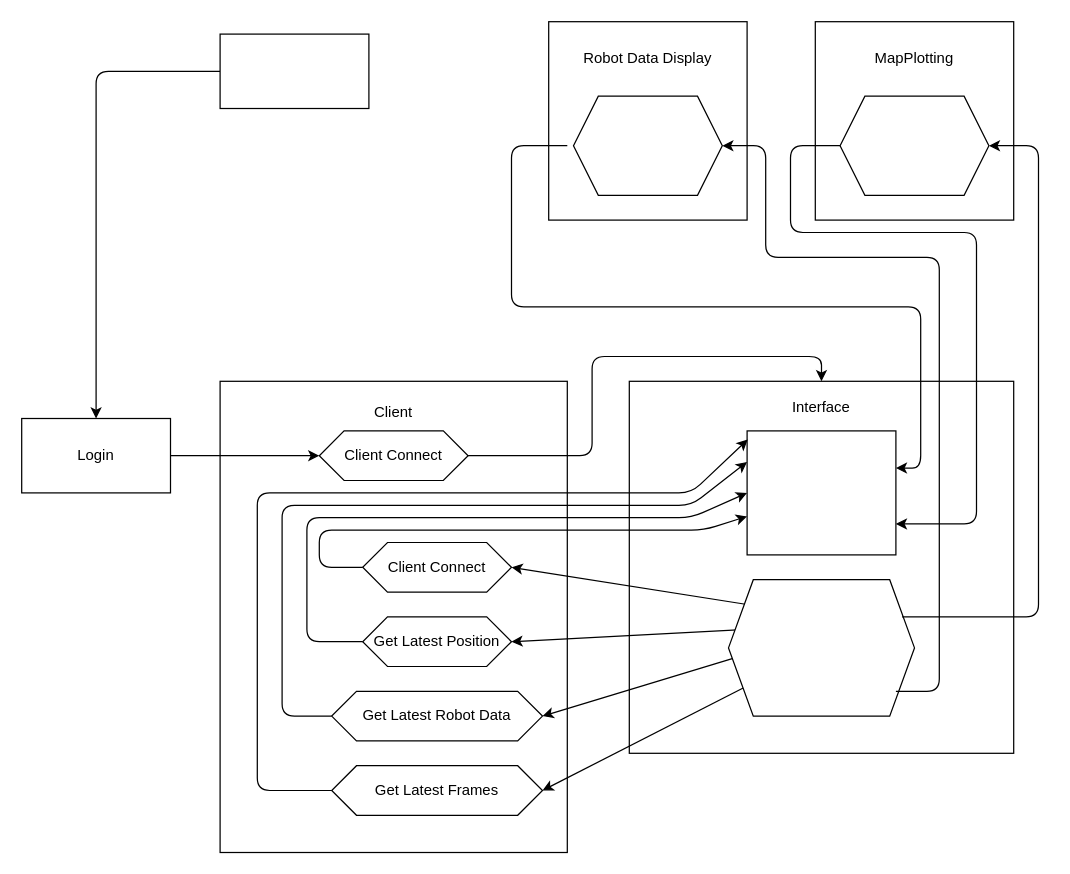
The diagram is 1070 pixels wide and 874 high, and some of its shapes have lost their labels. The shapes that lost their labels are listed below. From the top down, each one's centre as x and y in pixels, then its label:
At [294,70]: "Main".
At [647,145]: "Update Labels".
At [914,145]: "Update Robot Pos".
At [821,492]: "GUI".
At [820,647]: "Poll Updates".
